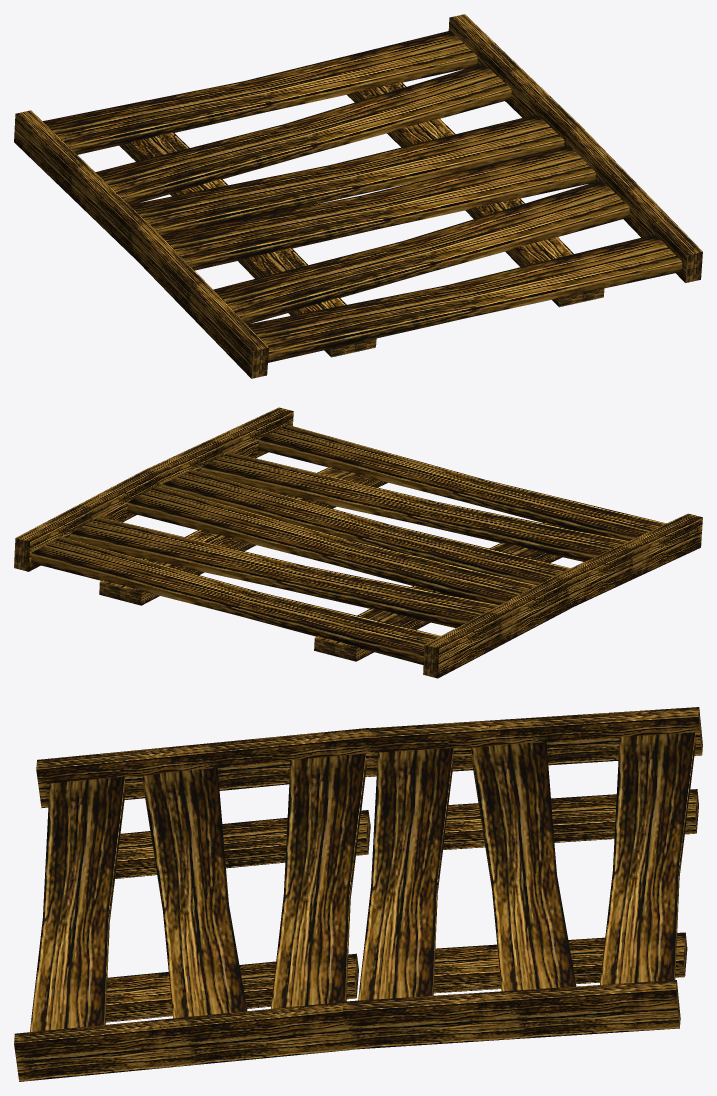
The model's file is RM_WPOOL_PLATFORM01.fbx.
3 renders of one model, top to bottom at view 1: azimuth 30°, elevation 25°; view 2: azimuth 150°, elevation 25°; view 3: azimuth 270°, elevation 25°, orthographic. The views are drawn at different scales.
Parts seen in each view (by area): view 1: RM_WPOOL_PLATFORM01; view 2: RM_WPOOL_PLATFORM01; view 3: RM_WPOOL_PLATFORM01.
Part boxes in pixels (x1,y1,x2,y2): RM_WPOOL_PLATFORM01: [14, 14, 702, 378]; RM_WPOOL_PLATFORM01: [14, 407, 702, 678]; RM_WPOOL_PLATFORM01: [14, 707, 702, 1081].
Bounding box in the file's own units: 37027 × 6343 × 37063.
Materials: 1 (1 with a texture image).
